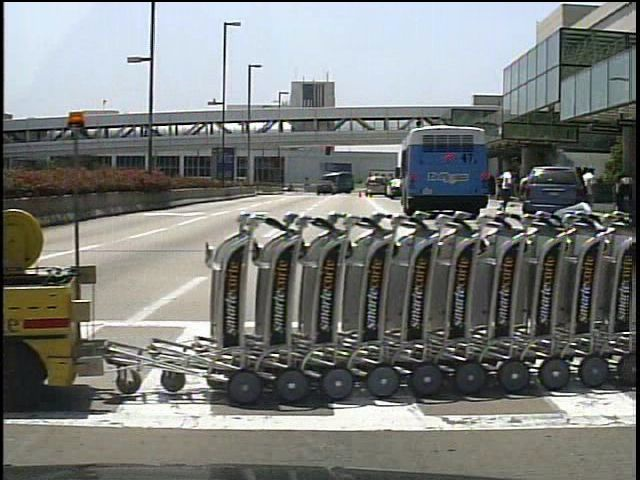person: (580, 165, 601, 214), (496, 166, 515, 216), (518, 168, 537, 215)
